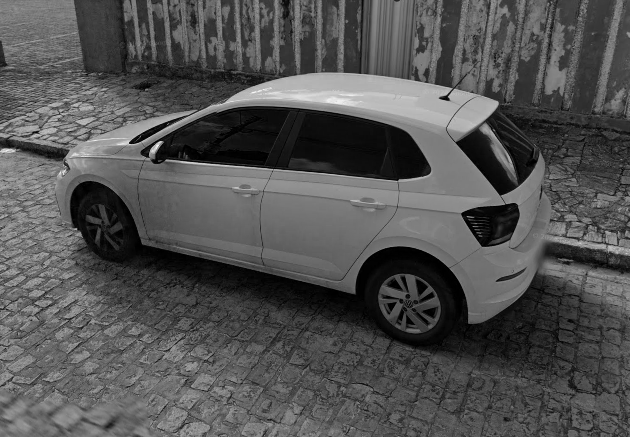car: (50, 55, 554, 352)
